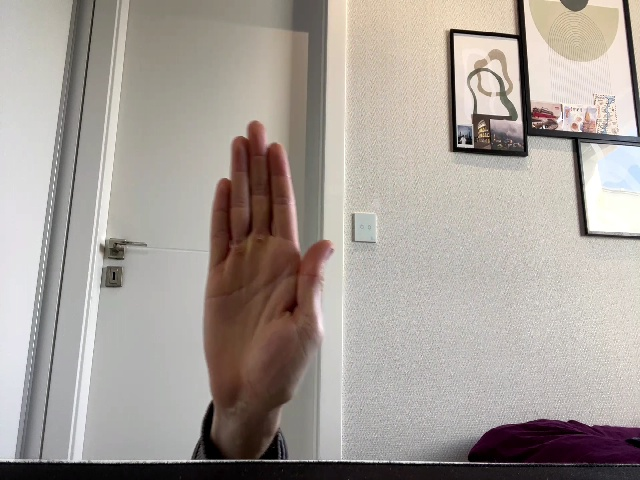B: (203, 120, 334, 409)
